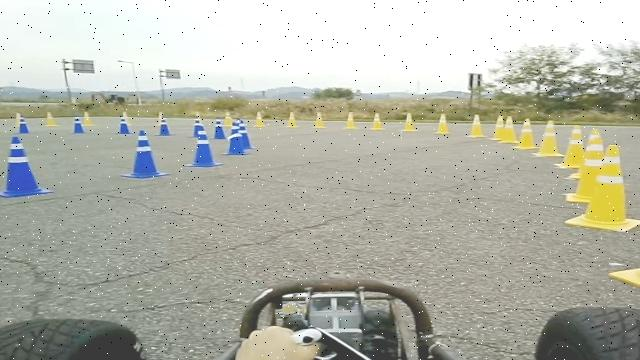blue cone: (0, 135, 53, 198), (120, 130, 170, 178), (183, 130, 223, 167), (231, 118, 256, 149), (221, 133, 250, 155)
yellow cone: (576, 143, 640, 232), (564, 137, 633, 207), (607, 205, 640, 297), (580, 126, 617, 178), (560, 122, 594, 171), (539, 116, 561, 165), (518, 114, 542, 156)
